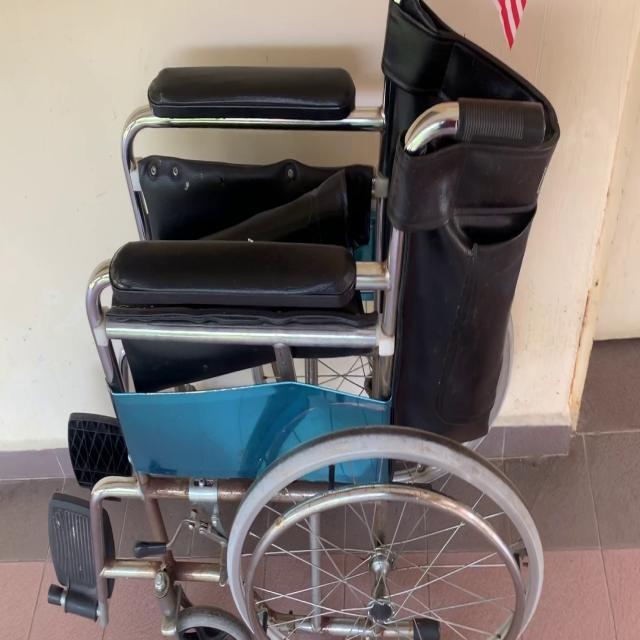wheelchair: (45, 0, 567, 634)
